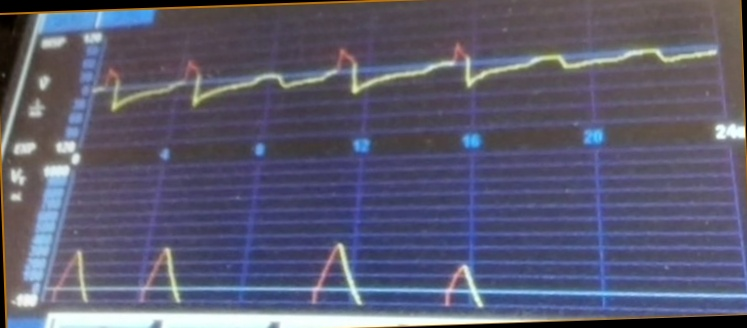Ineffective_effort Flow: (91, 38, 718, 115)
Ineffective_effort Volume: (51, 225, 518, 307)
